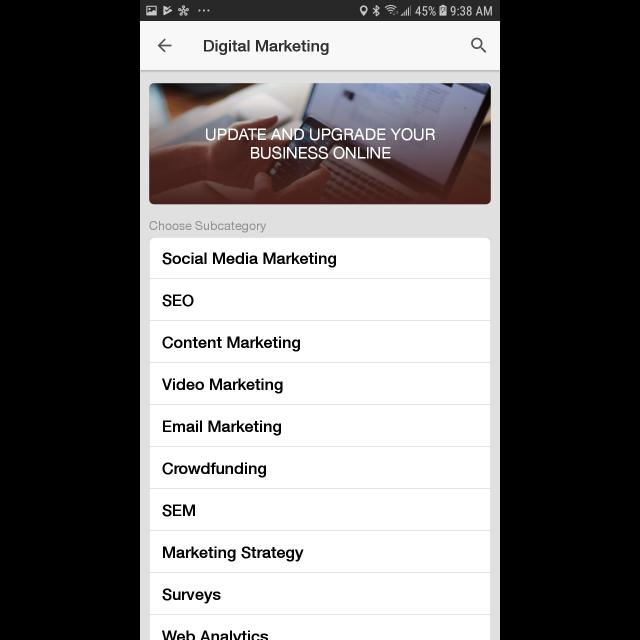icon: (471, 37, 487, 53), (158, 39, 172, 53)
image: (149, 84, 491, 204)
text: (205, 126, 435, 160), (163, 252, 337, 268), (163, 546, 304, 562), (163, 336, 301, 352), (204, 40, 328, 56), (162, 378, 282, 394), (163, 420, 281, 436), (162, 462, 266, 478), (150, 221, 266, 233), (162, 630, 268, 640), (163, 588, 221, 604), (162, 504, 195, 516), (163, 294, 194, 306)
uppertaskbar: (140, 1, 500, 22)
